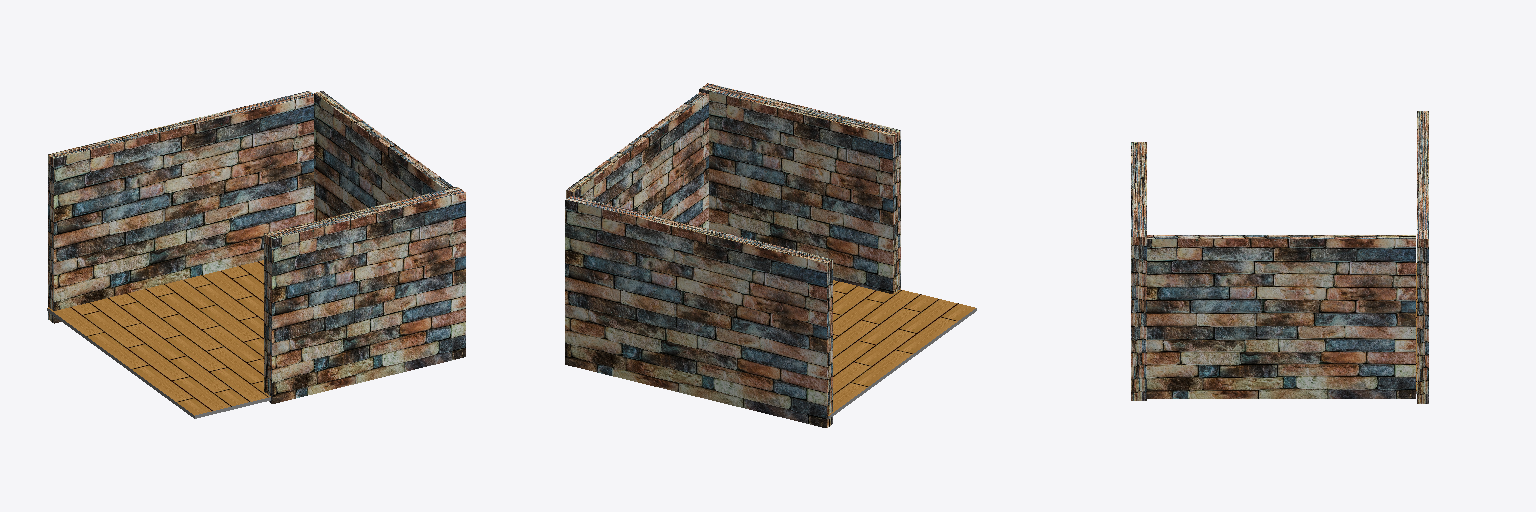
3 renders of one model, left to right at view 1: azimuth 30°, elevation 25°; view 2: azimuth 150°, elevation 25°; view 3: azimuth 270°, elevation 25°, orthographic.
Visible parts, largest first — view 1: PuertaIzquierdaRecamara3, ParteDerechaRecamara3, PisoRecamara3, Parte_Trasera_Recamara3; view 2: PuertaIzquierdaRecamara3, ParteDerechaRecamara3, Parte_Trasera_Recamara3, PisoRecamara3; view 3: Parte_Trasera_Recamara3, ParteDerechaRecamara3, PuertaIzquierdaRecamara3.
Part boxes in pixels (left/top/right/bottom): PuertaIzquierdaRecamara3: left=48, top=91, right=313, bottom=323; ParteDerechaRecamara3: left=264, top=187, right=465, bottom=403; PisoRecamara3: left=47, top=260, right=270, bottom=418; Parte_Trasera_Recamara3: left=314, top=91, right=452, bottom=220; PuertaIzquierdaRecamara3: left=565, top=196, right=832, bottom=427; ParteDerechaRecamara3: left=699, top=83, right=900, bottom=293; Parte_Trasera_Recamara3: left=566, top=92, right=708, bottom=228; PisoRecamara3: left=828, top=280, right=976, bottom=418; Parte_Trasera_Recamara3: left=1147, top=235, right=1415, bottom=398; ParteDerechaRecamara3: left=1131, top=142, right=1146, bottom=400; PuertaIzquierdaRecamara3: left=1417, top=111, right=1428, bottom=403.
Size of the model in its own units: 68.62 by 41.43 by 65.82.
6 materials, 2 textured.